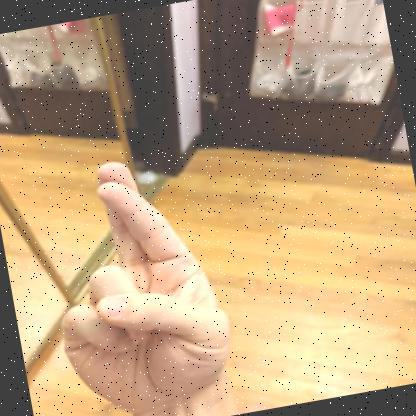R: (61, 161, 231, 416)
